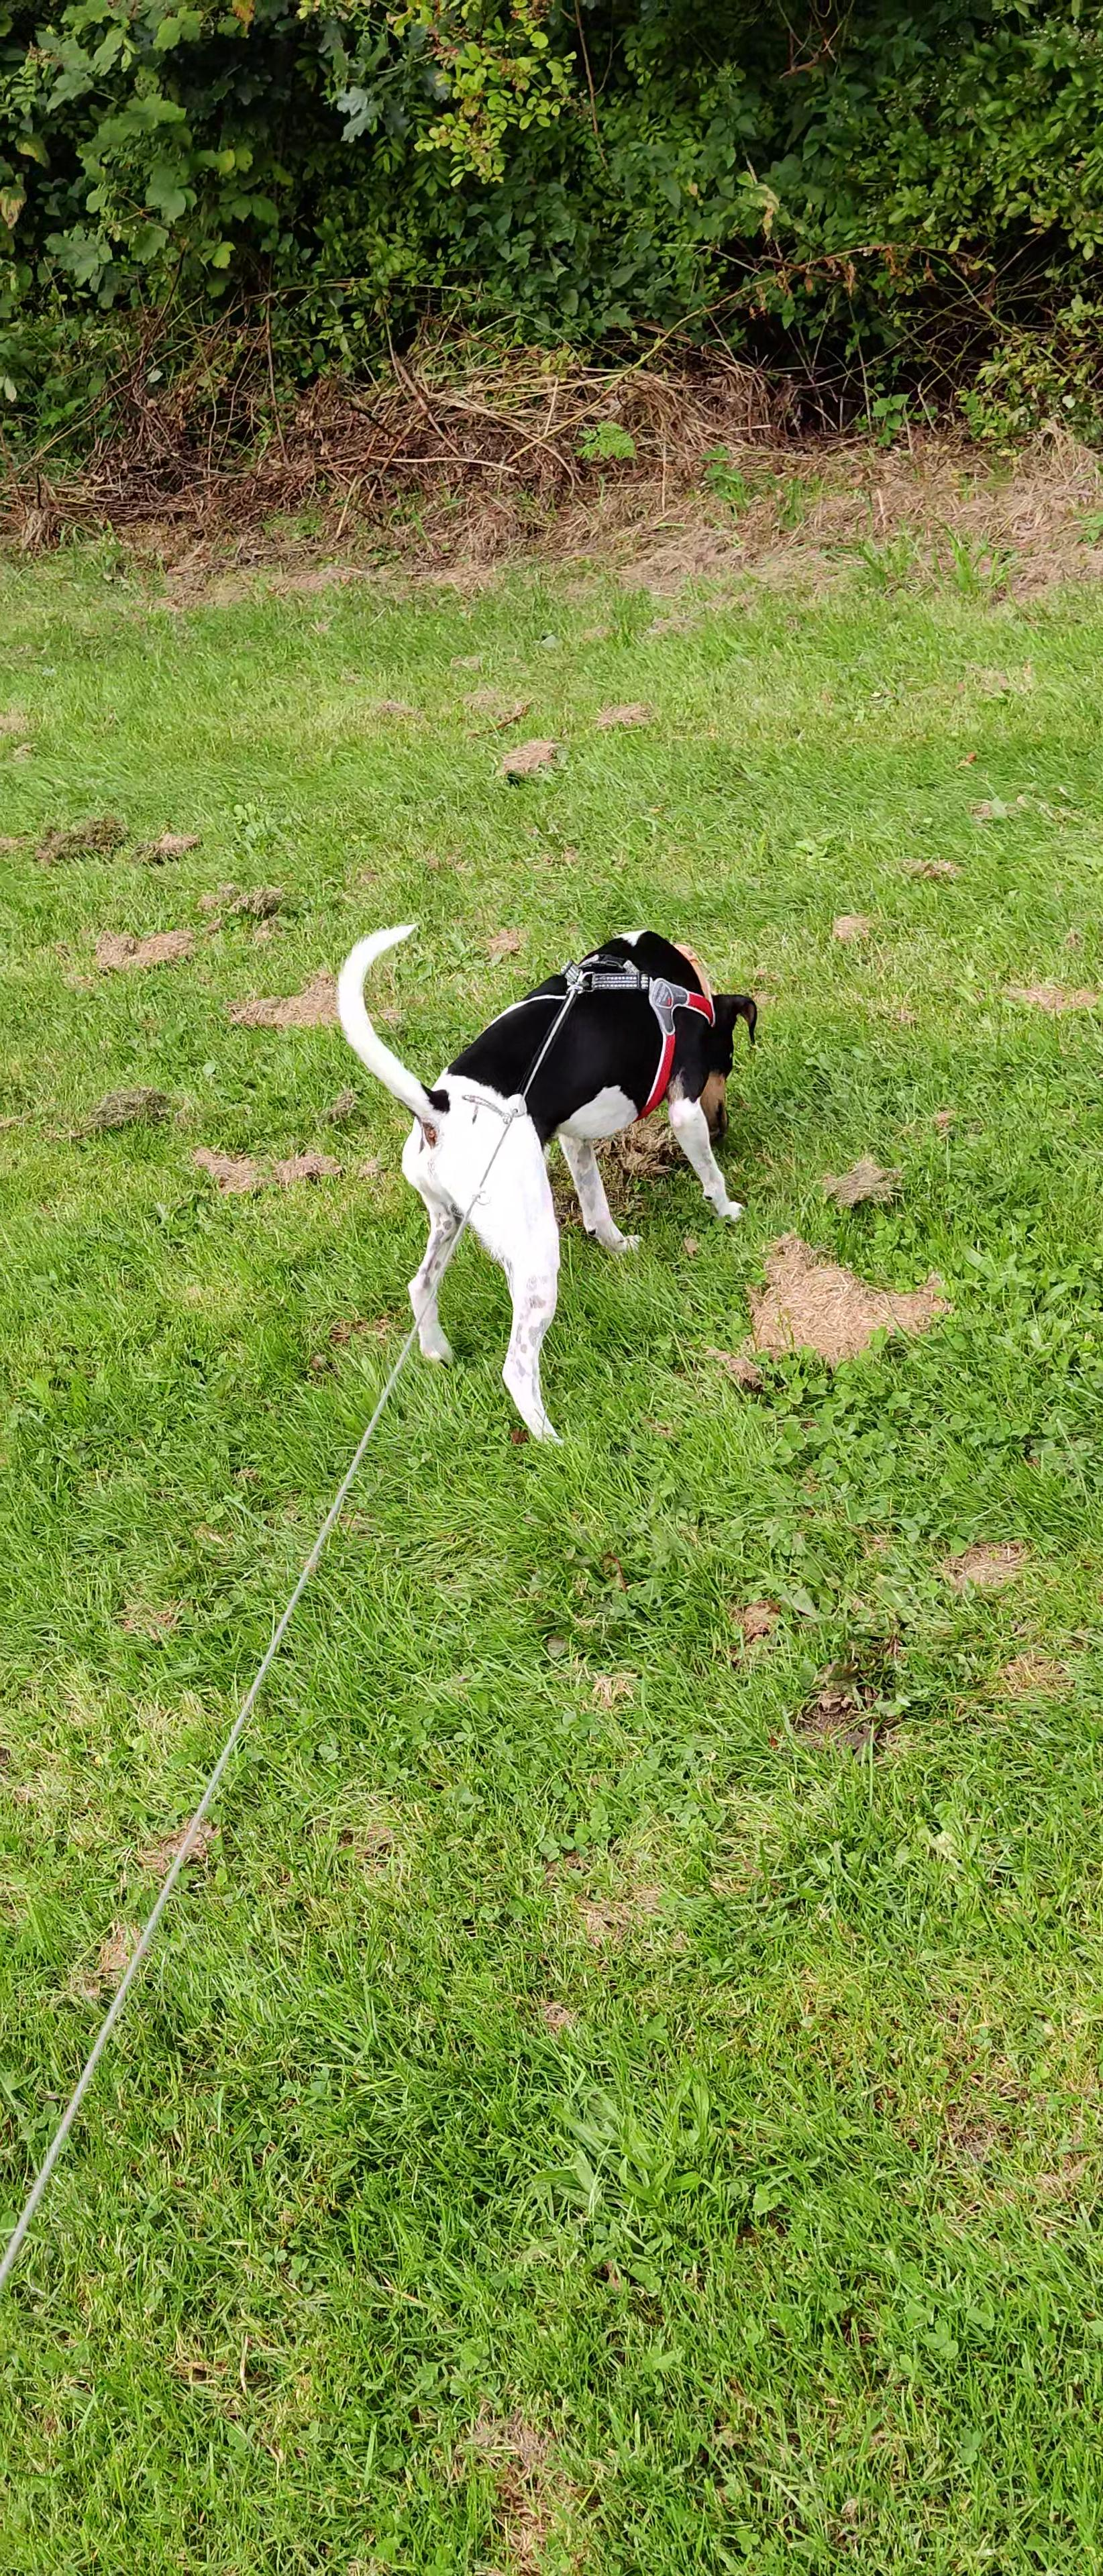Dog: (322, 912, 764, 1444)
